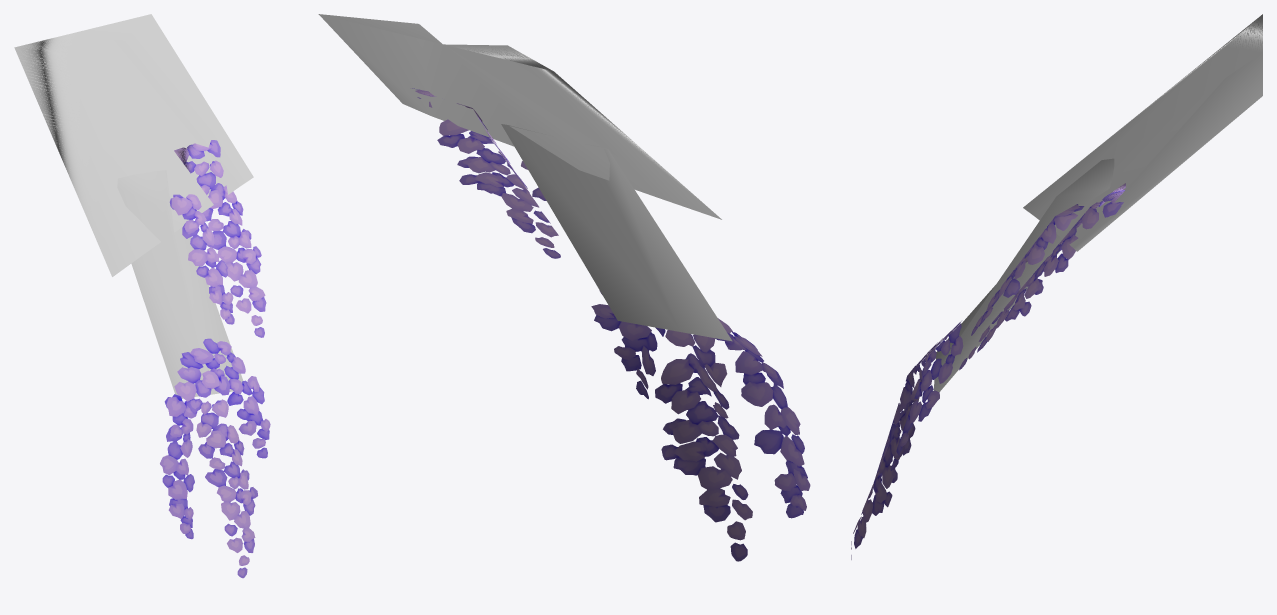
Rendered from SM_Env_Vines_Preset_Roof_Convex_02.fbx.
3 views of the same model, side by side, from view 1: azimuth 30°, elevation 25°; view 2: azimuth 150°, elevation 25°; view 3: azimuth 270°, elevation 25° (orthographic). The views are drawn at different scales.
Visible parts, largest first — view 1: SM_Env_Vines_Preset_Roof_Convex_02; view 2: SM_Env_Vines_Preset_Roof_Convex_02; view 3: SM_Env_Vines_Preset_Roof_Convex_02.
Boxes of the visible parts, x1=… form: SM_Env_Vines_Preset_Roof_Convex_02: x1=14, y1=14, x2=270, y2=578; SM_Env_Vines_Preset_Roof_Convex_02: x1=318, y1=14, x2=810, y2=561; SM_Env_Vines_Preset_Roof_Convex_02: x1=851, y1=14, x2=1262, y2=559.
Size of the model in its own units: 96.5 by 231 by 163.
